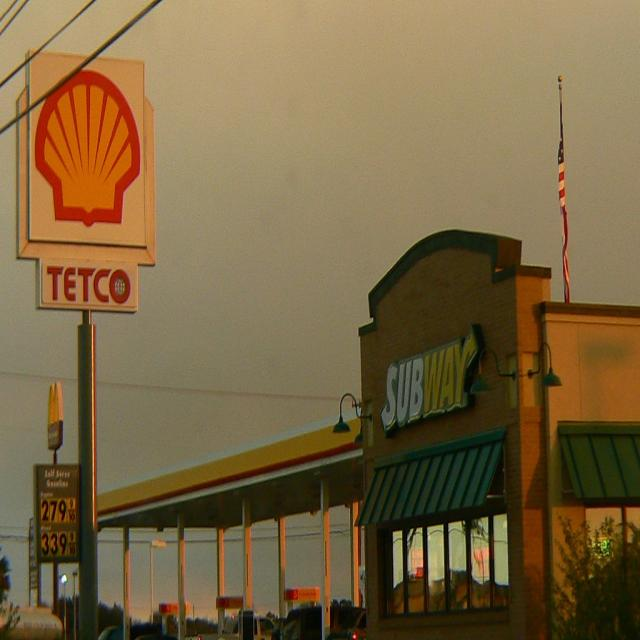shell: (36, 68, 143, 229)
